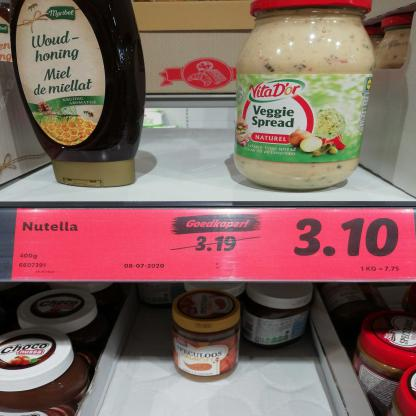prtg: (12, 209, 416, 283)
